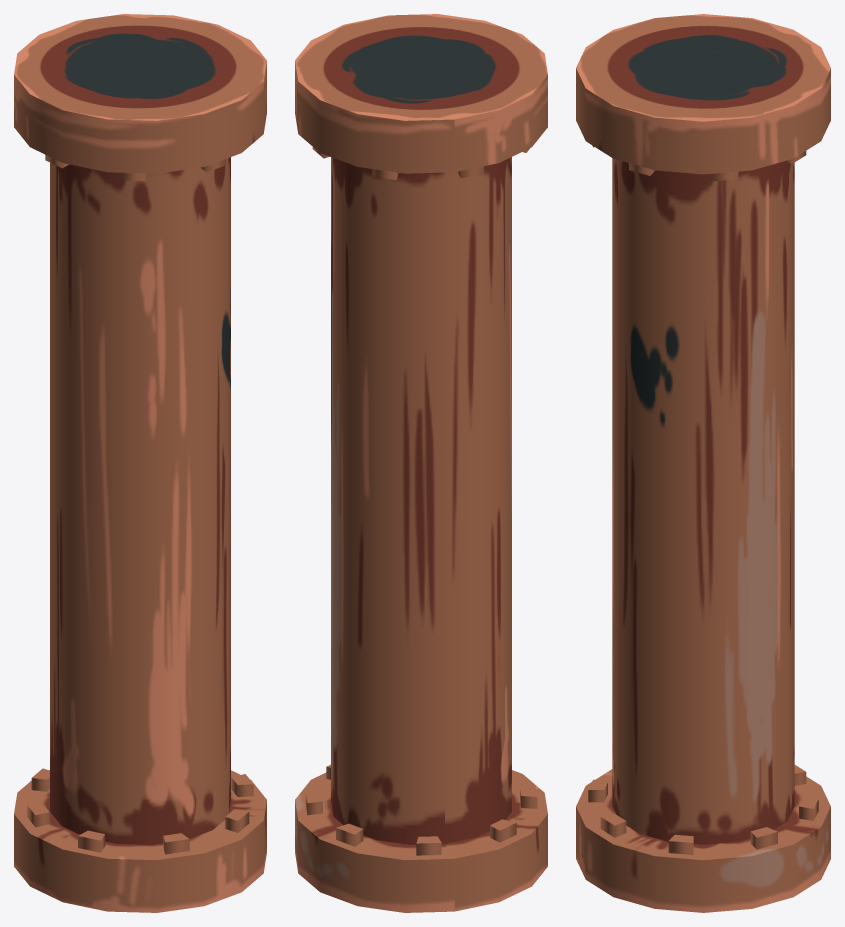
Rendered from Pipe1Long.glb.
3 views of the same model, side by side, from view 1: azimuth 30°, elevation 25°; view 2: azimuth 150°, elevation 25°; view 3: azimuth 270°, elevation 25° (orthographic).
Parts seen in each view (by area): view 1: Pipe1Long; view 2: Pipe1Long; view 3: Pipe1Long.
Boxes of the visible parts, x1=… form: Pipe1Long: x1=14, y1=14, x2=266, y2=912; Pipe1Long: x1=295, y1=14, x2=547, y2=912; Pipe1Long: x1=576, y1=14, x2=830, y2=912.
Bounding box in the file's own units: 0.8759 × 3 × 0.8758.
1 material, 1 textured.
